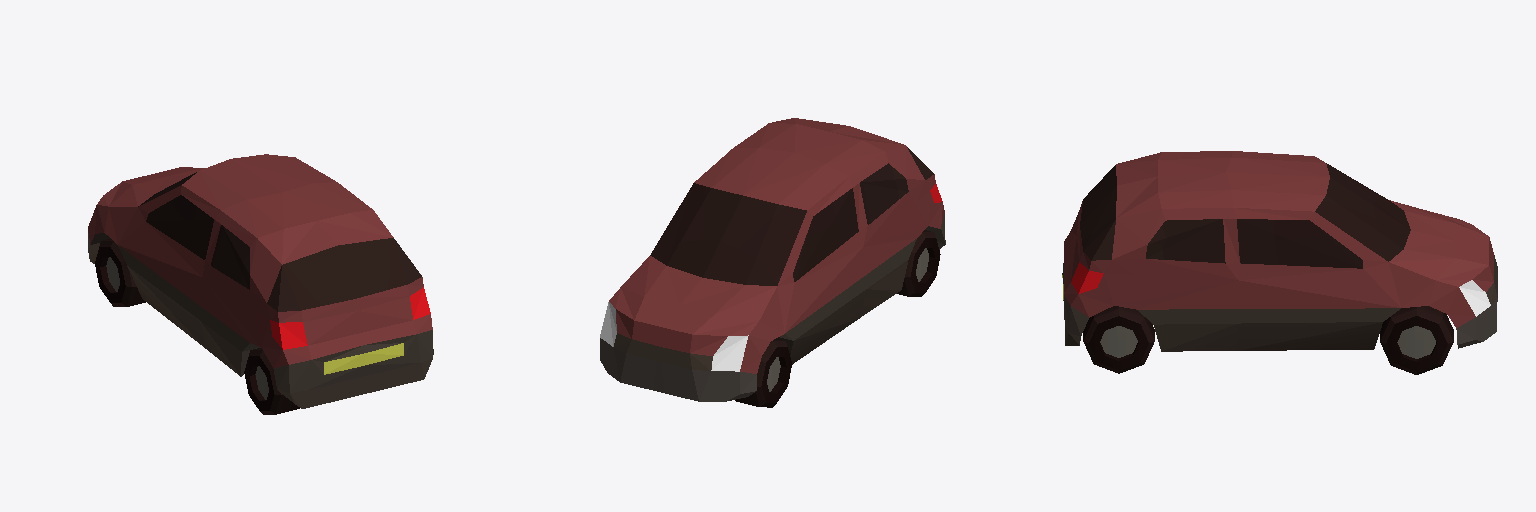
The picture shows the model from 3 angles: view 1: azimuth 30°, elevation 25°; view 2: azimuth 150°, elevation 25°; view 3: azimuth 270°, elevation 25°; orthographic projection.
Visible parts, largest first — view 1: Car_Carrosserie, Car_Base; view 2: Car_Carrosserie, Car_Base; view 3: Car_Carrosserie, Car_Base.
Part boxes in pixels (left/top/right/bottom): Car_Carrosserie: left=88, top=154, right=432, bottom=368; Car_Base: left=88, top=172, right=433, bottom=414; Car_Carrosserie: left=609, top=118, right=944, bottom=373; Car_Base: left=600, top=147, right=945, bottom=407; Car_Carrosserie: left=1064, top=151, right=1493, bottom=328; Car_Base: left=1062, top=163, right=1497, bottom=374.
Size of the model in its own units: 1.94 by 1.98 by 4.67.
Materials: 1 (1 with a texture image).